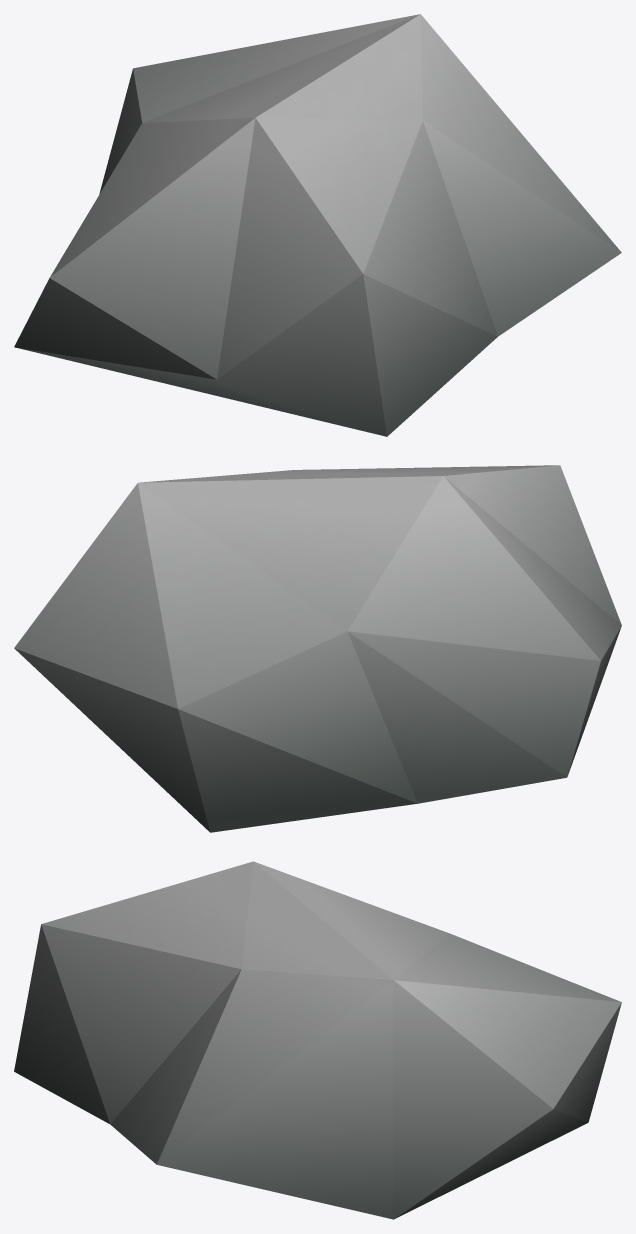
Rendered from Stone_3.fbx.
3 renders of one model, top to bottom at view 1: azimuth 30°, elevation 25°; view 2: azimuth 150°, elevation 25°; view 3: azimuth 270°, elevation 25°, orthographic. The views are drawn at different scales.
Visible parts, largest first — view 1: rock.002; view 2: rock.002; view 3: rock.002.
Part boxes in pixels (left/top/right/bottom): rock.002: left=14, top=14, right=621, bottom=436; rock.002: left=14, top=465, right=621, bottom=832; rock.002: left=14, top=861, right=621, bottom=1219.
Bounding box in the file's own units: 2.43 × 1.03 × 2.14.
